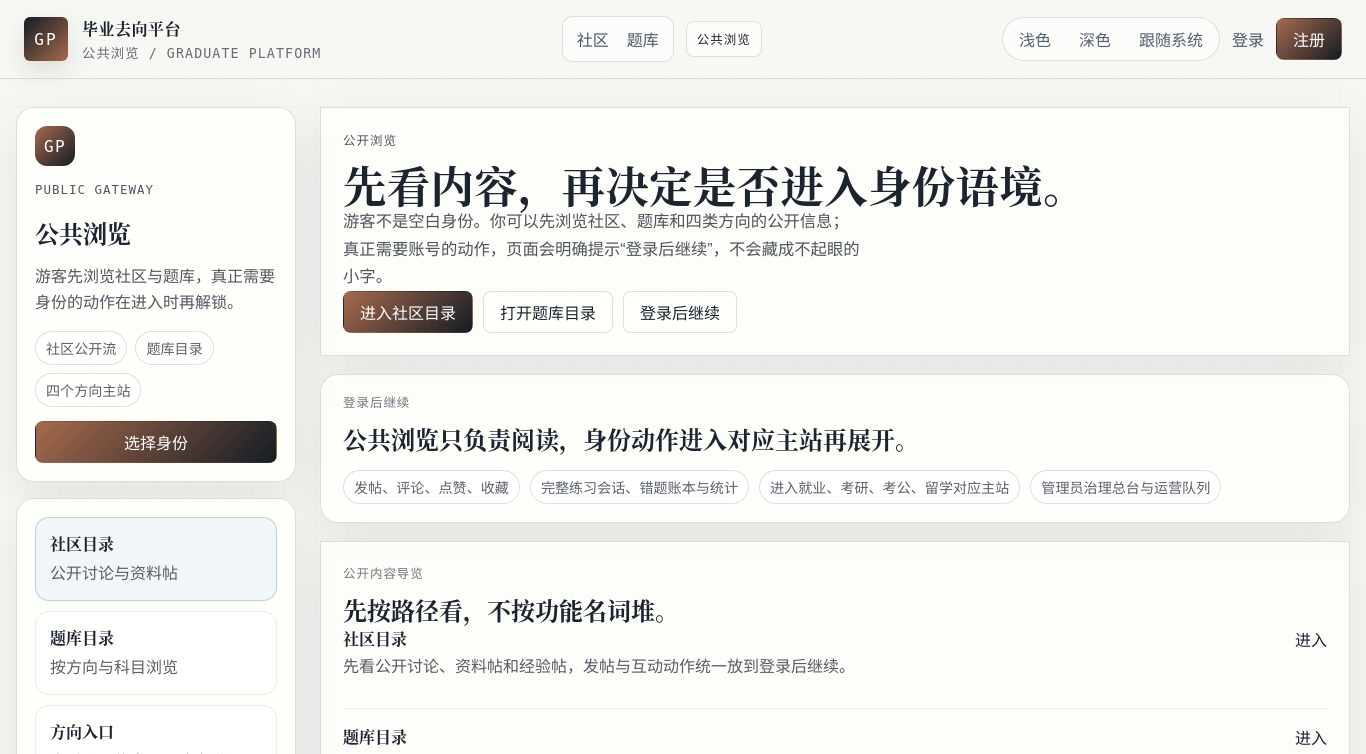
Test: frontendv1 role auth dialog flow › opens a role selection dialog when guest users click login
The image size is (1366, 754).
Click the link "登录后继续" at (680, 312), box [623, 291, 737, 333]
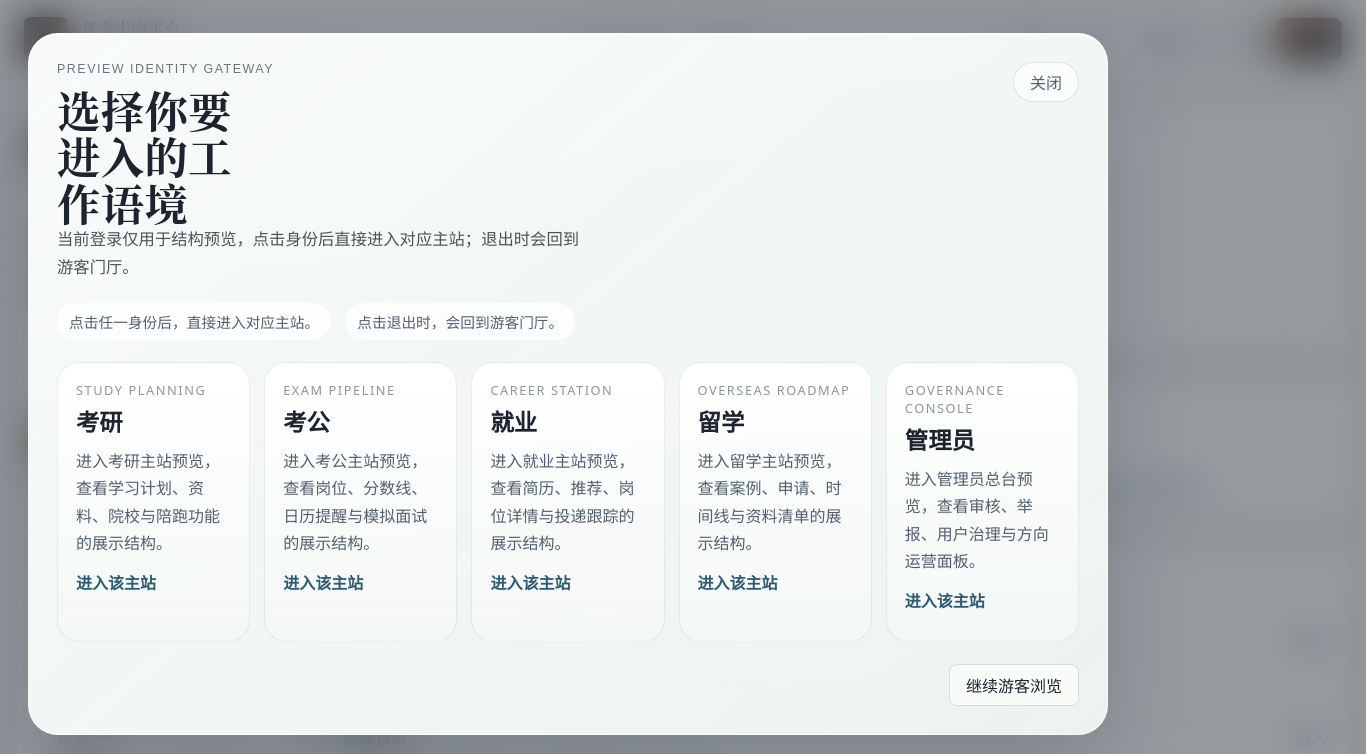
Expected: the dialog "选择你要进入的工作语境" is shown
Expected: the text "考研" is shown, [76, 410, 123, 436]
Expected: the text "管理员" is shown, [905, 428, 975, 454]
